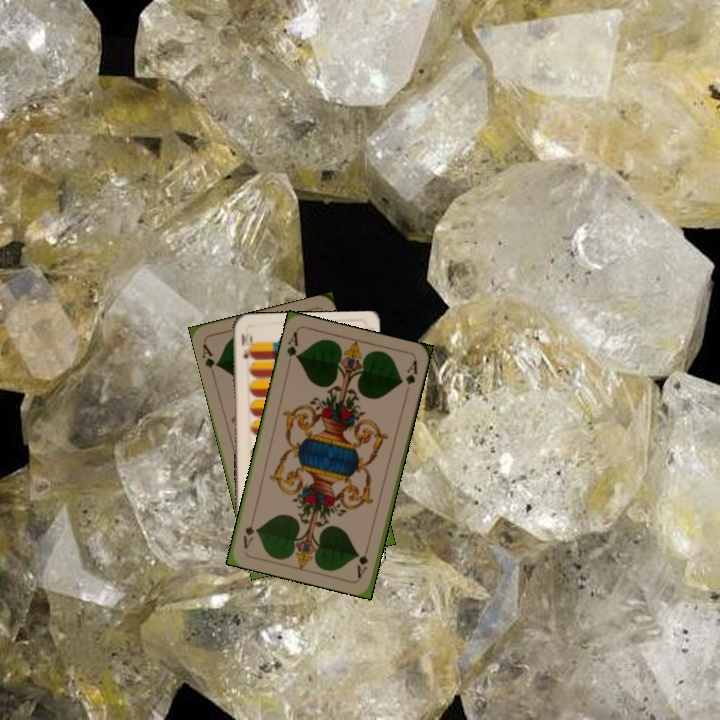E10: (237, 329, 255, 361)
GA: (282, 328, 301, 368), (353, 540, 372, 580), (198, 340, 221, 371)
